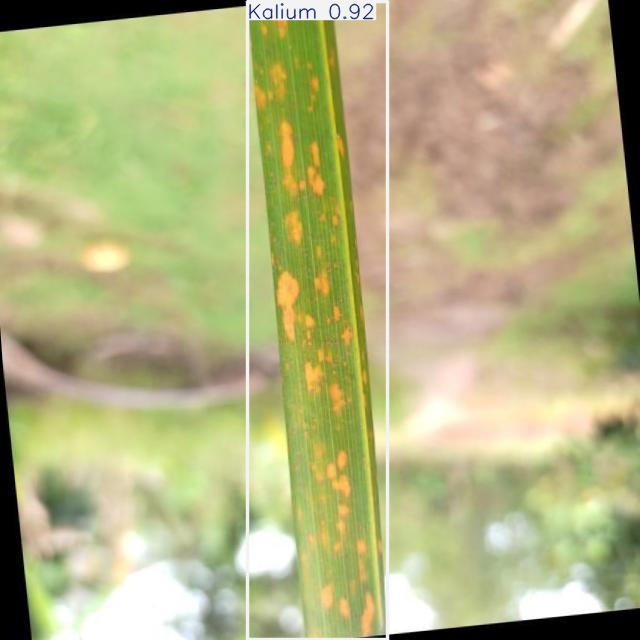Kalium: (248, 1, 388, 639)
